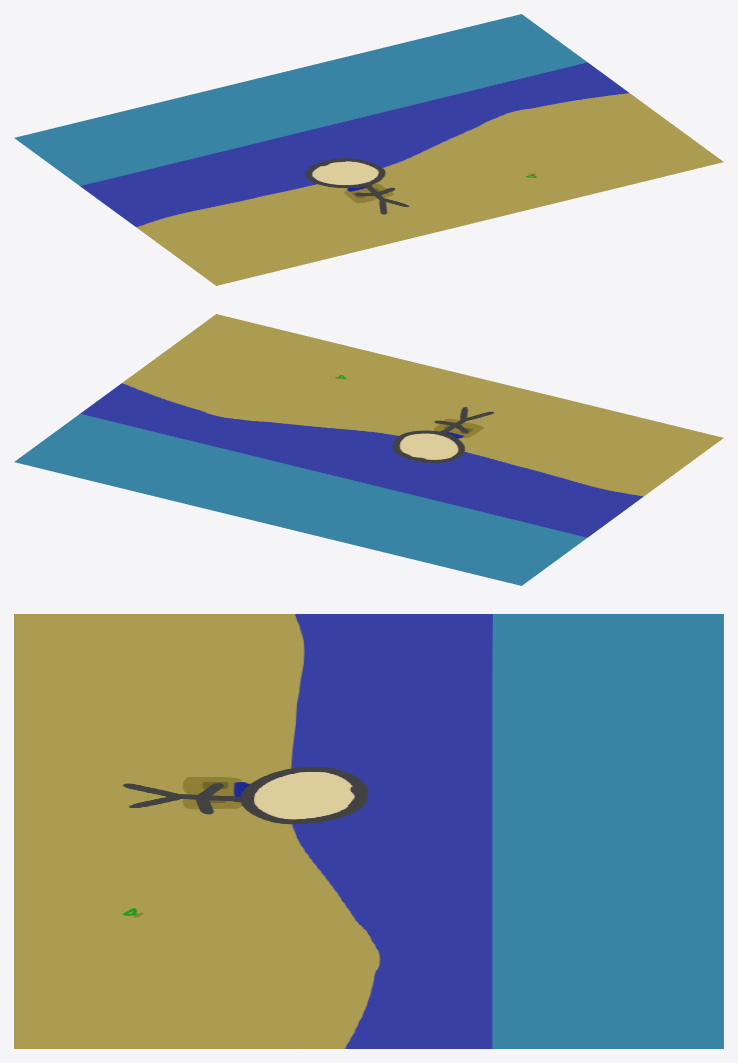
File: SummerAnim11.fbx
The picture shows the model from 3 angles, top to bottom: view 1: azimuth 30°, elevation 25°; view 2: azimuth 150°, elevation 25°; view 3: azimuth 270°, elevation 25°; orthographic projection. The views are drawn at different scales.
Parts seen in each view (by area): view 1: pPlane1; view 2: pPlane1; view 3: pPlane1.
Boxes of the visible parts, x1=… form: pPlane1: x1=14, y1=14, x2=723, y2=285; pPlane1: x1=14, y1=314, x2=723, y2=585; pPlane1: x1=14, y1=614, x2=723, y2=1048.
Bounding box in the file's own units: 7.78 × 5.08e-16 × 5.37.
1 material, 1 textured.
